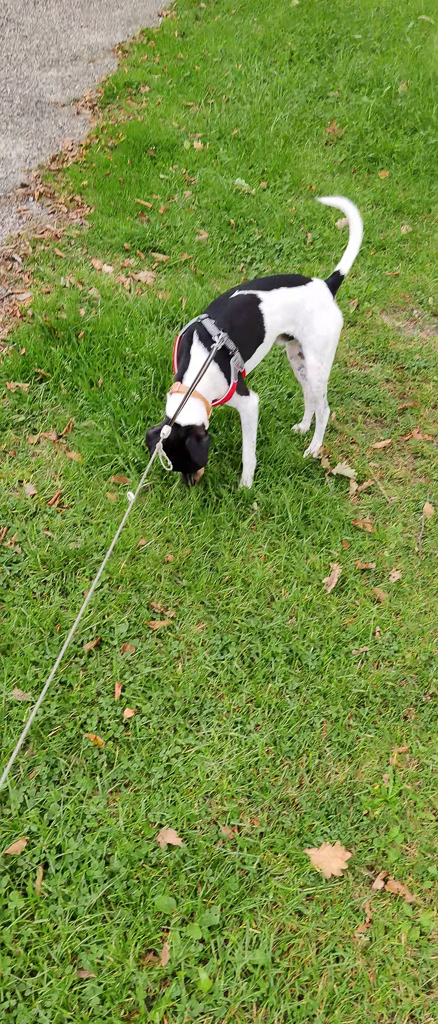Dog: (138, 178, 373, 509)
